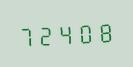eight: (94, 18, 112, 44)
four: (56, 20, 74, 46)
seven: (18, 22, 36, 48)
two: (37, 21, 55, 47)
zero: (75, 19, 93, 45)
